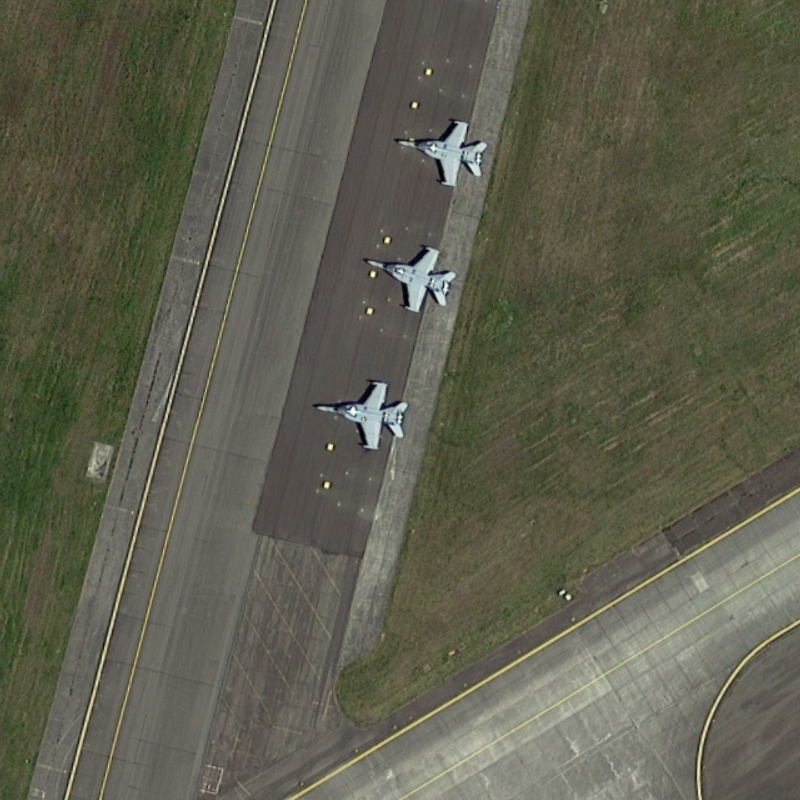A16: (304, 371, 411, 460), (360, 228, 461, 321), (390, 108, 494, 194)
